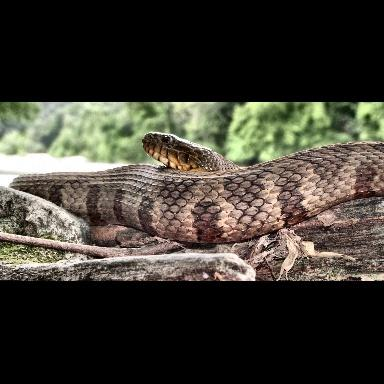snake: (9, 133, 384, 249)
